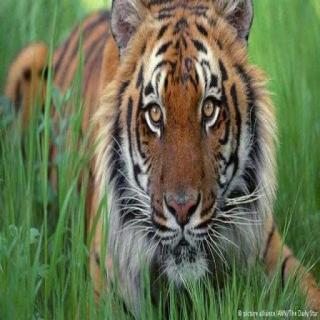Tiger: (8, 1, 317, 312)
